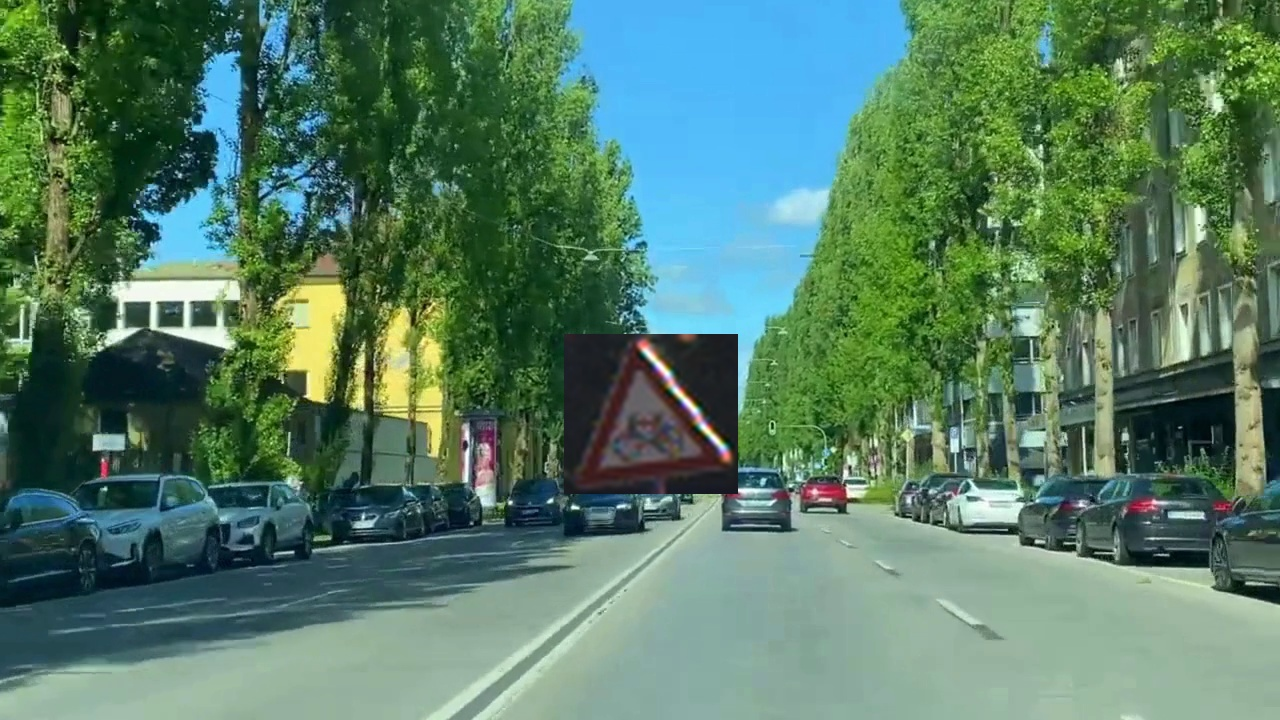Bicycles: (564, 334, 738, 494)
